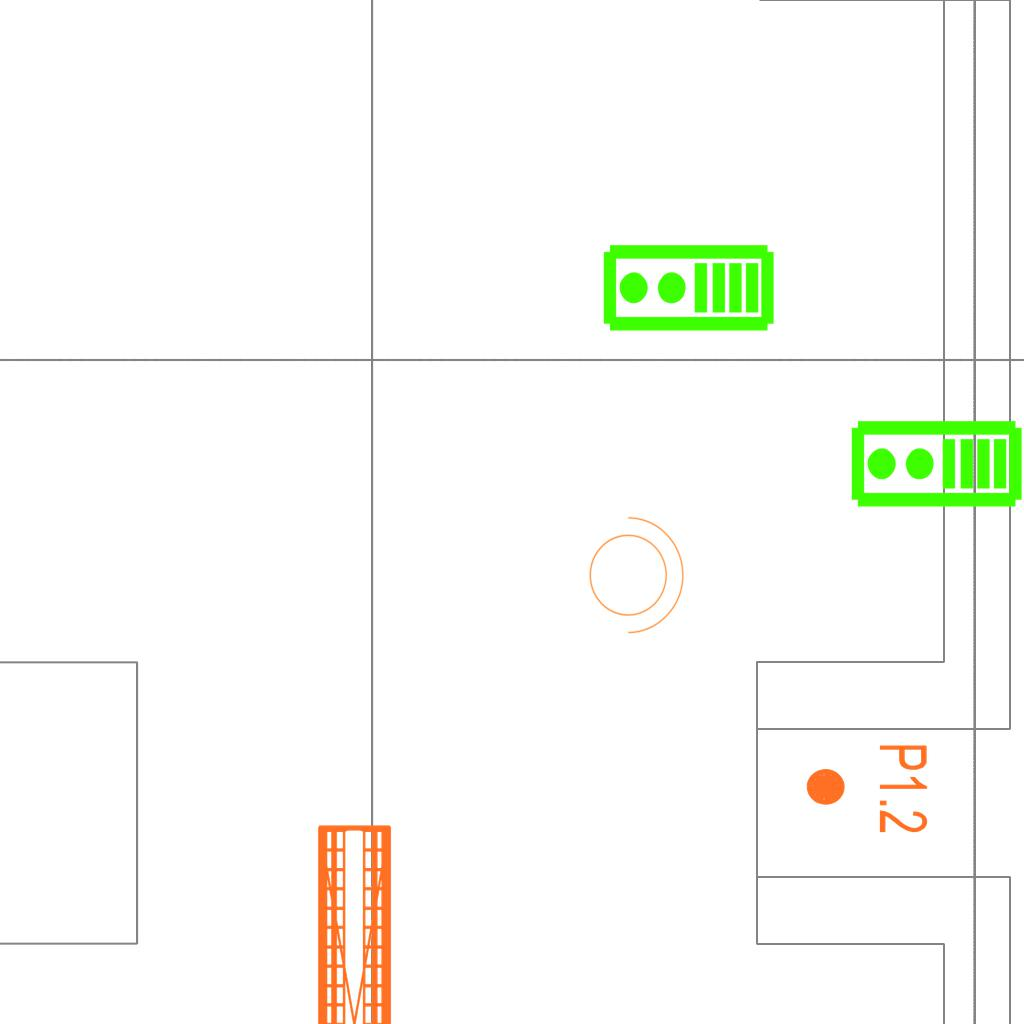Buero_Pendelleuchten_LED: (308, 817, 438, 1024)
Downlight_LED_Einbauleuchten_Flur: (803, 742, 931, 835)
Gegensprechanlage_mit_Video: (600, 242, 776, 337), (848, 418, 1024, 513)
Scheinwerfer_fuer_Alarmbeleuchtung: (577, 506, 689, 638)
